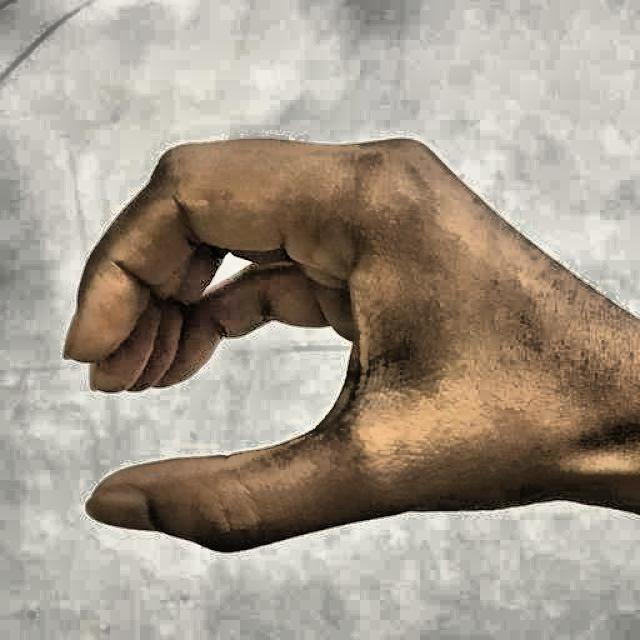Ka: (49, 92, 622, 589)
